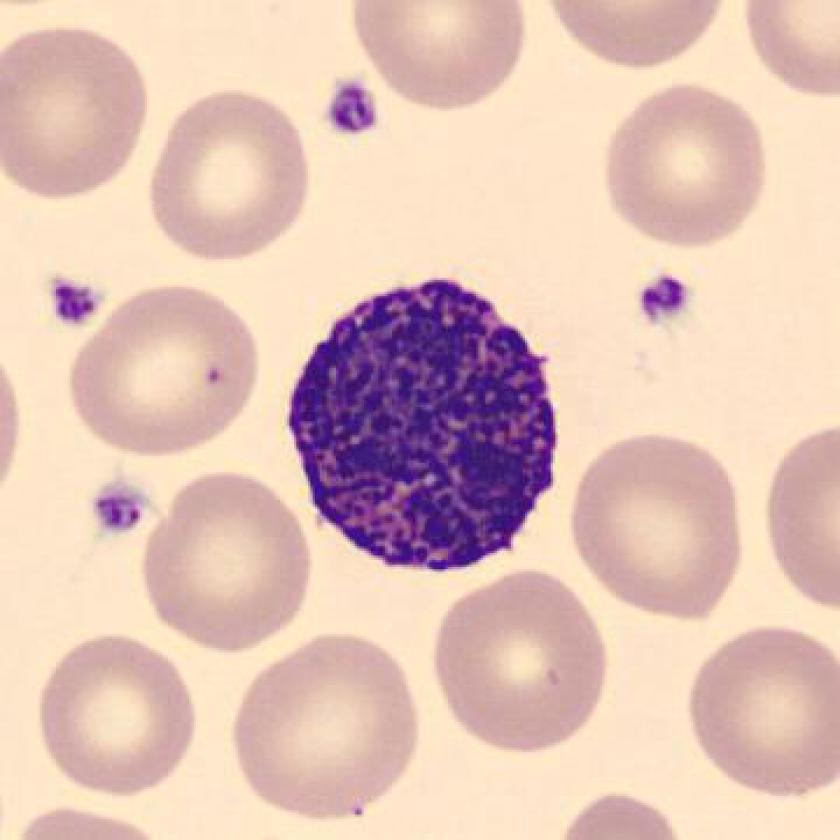basophil: (283, 263, 568, 584)
